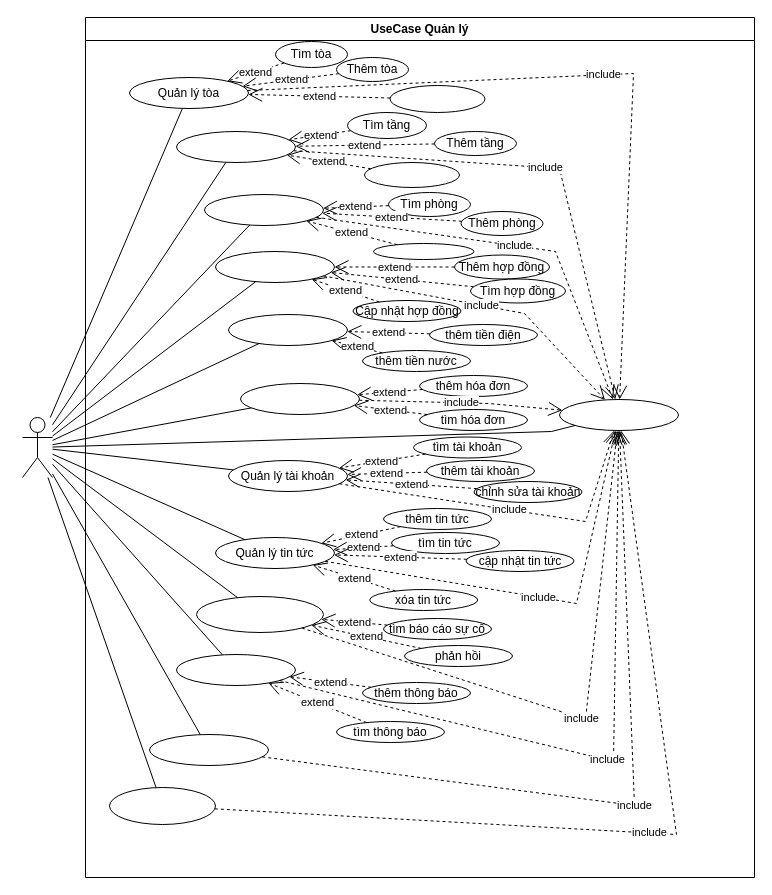
Image size: 772x895. Some labels were removed from this diagram. Each missing label, with the box of its shape:
Cập nhật phòng: (372, 242, 474, 260)
cập nhật tòa: (389, 84, 485, 112)
Cập nhật tầng: (364, 162, 460, 188)
Quản lý: (22, 416, 52, 478)
Quản lý báo cáo sự cố: (196, 596, 324, 632)
Quản lý hóa đơn: (240, 382, 360, 414)
Quản lý hợp đồng: (214, 250, 334, 282)
Quản lý phòng: (204, 194, 324, 226)
Quản lý thông báo: (176, 654, 296, 686)
Quản lý tầng: (176, 130, 296, 162)
Quản lý điện nước: (228, 314, 348, 346)
Xem thống kê: (148, 734, 268, 766)
Đăng nhập: (558, 398, 678, 430)
Đăng xuất: (108, 786, 216, 824)
